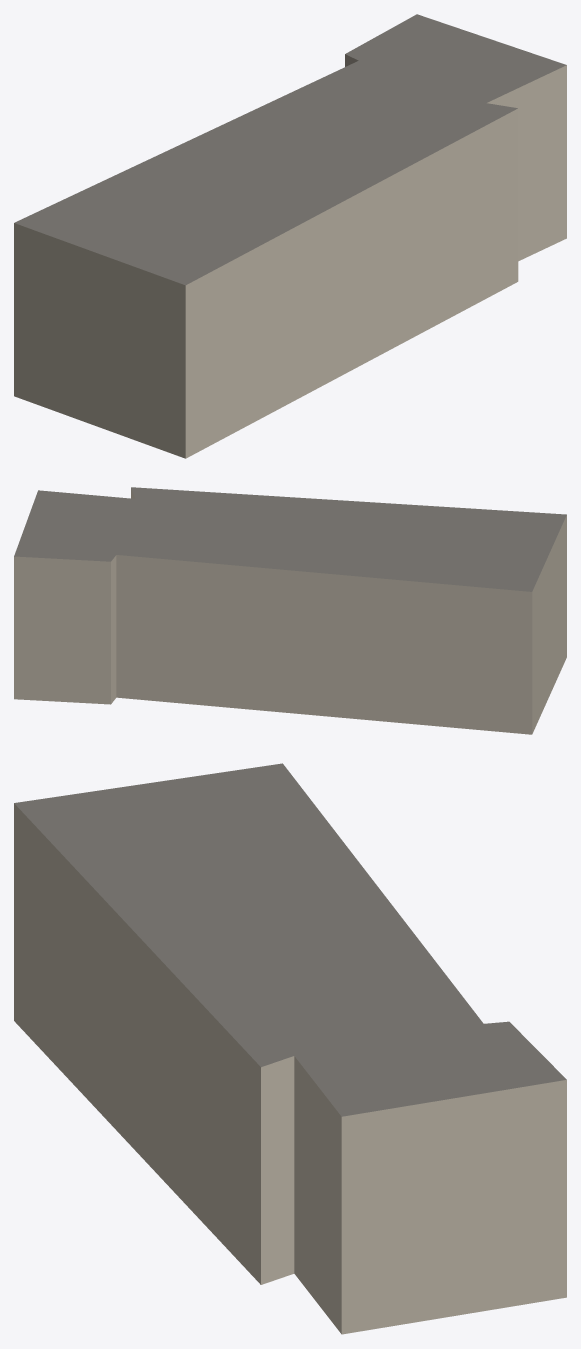
3 renders of one model, top to bottom at view 1: azimuth 30°, elevation 25°; view 2: azimuth 150°, elevation 25°; view 3: azimuth 270°, elevation 25°, orthographic. The views are drawn at different scales.
Visible parts, largest first — view 1: HP-w1512800283; view 2: HP-w1512800283; view 3: HP-w1512800283.
Part boxes in pixels (x1,y1,x2,y2): HP-w1512800283: (14,14,566,458); HP-w1512800283: (14,487,566,734); HP-w1512800283: (14,763,566,1334).
Bounding box in the file's own units: 62.63 × 18 × 41.42.
